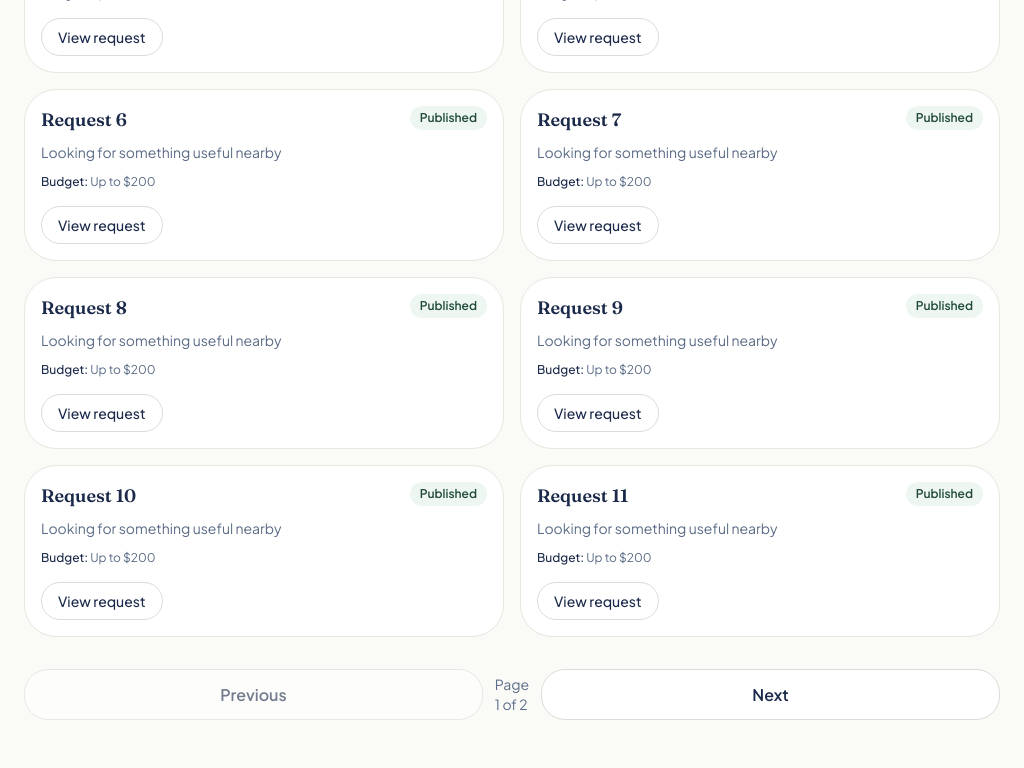
Test: RequestFeed › pages through results with the server, not by slicing
(page scrolled)
Check: the text "Page 1 of 2" is shown, box [495,674,529,714]
Click the button "Next". click: [771, 694]
box: [541,669,1000,720]
(page scrolled)
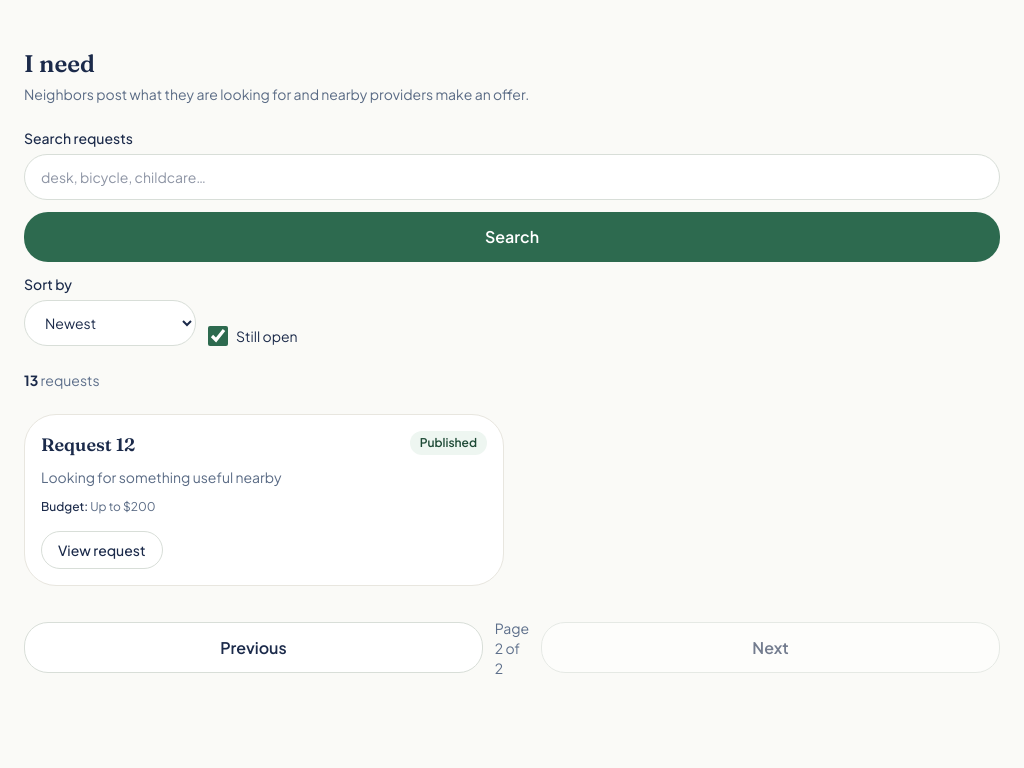
Check: the heading "Request 12" is shown, box [41,431,135,459]
